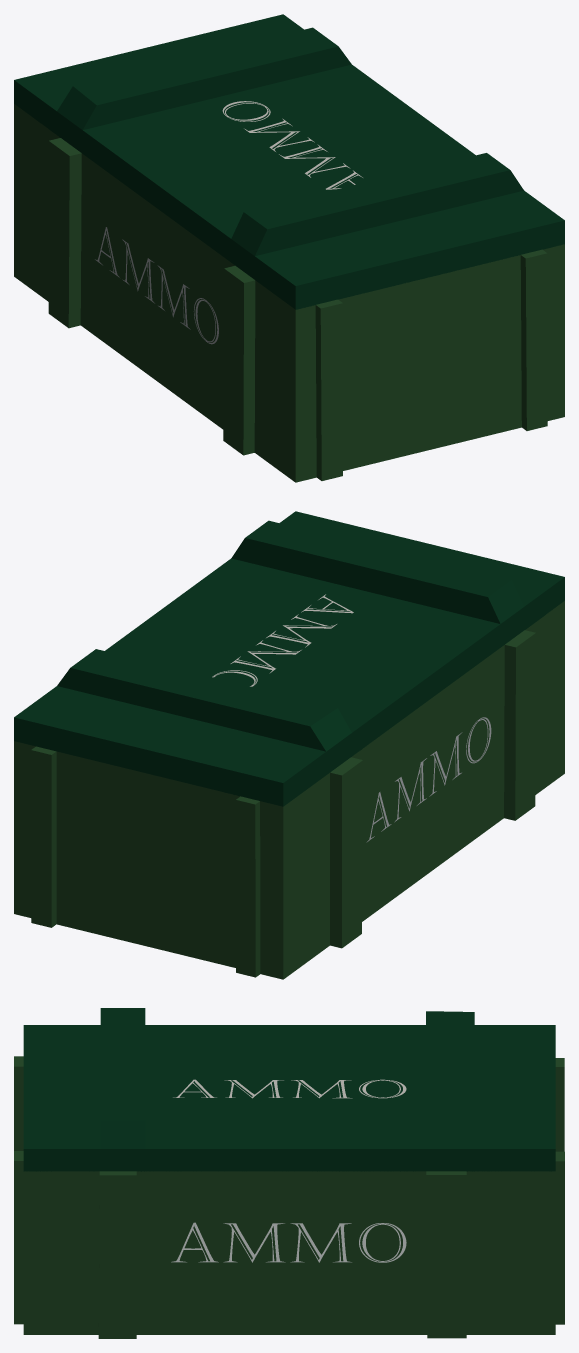
Rendered from ammo.fbx.
The picture shows the model from 3 angles, top to bottom: view 1: azimuth 30°, elevation 25°; view 2: azimuth 150°, elevation 25°; view 3: azimuth 270°, elevation 25°; orthographic projection. The views are drawn at different scales.
Visible parts, largest first — view 1: Cube, Cube.001, Text.001, Text; view 2: Cube, Cube.001, Text.001, Text; view 3: Cube, Cube.001, Text.002, Text.
Boxes of the visible parts, x1=… form: Cube: x1=14, y1=104, x2=564, y2=482; Cube.001: x1=14, y1=14, x2=564, y2=309; Text.001: x1=95, y1=227, x2=218, y2=344; Text: x1=222, y1=101, x2=362, y2=189; Cube: x1=14, y1=601, x2=564, y2=979; Cube.001: x1=14, y1=511, x2=564, y2=806; Text.001: x1=366, y1=717, x2=491, y2=842; Text: x1=212, y1=594, x2=353, y2=686; Cube: x1=14, y1=1056, x2=564, y2=1338; Cube.001: x1=23, y1=1008, x2=555, y2=1171; Text.002: x1=171, y1=1222, x2=406, y2=1262; Text: x1=173, y1=1079, x2=406, y2=1098.
Size of the model in its own units: 242 by 176 by 421.
